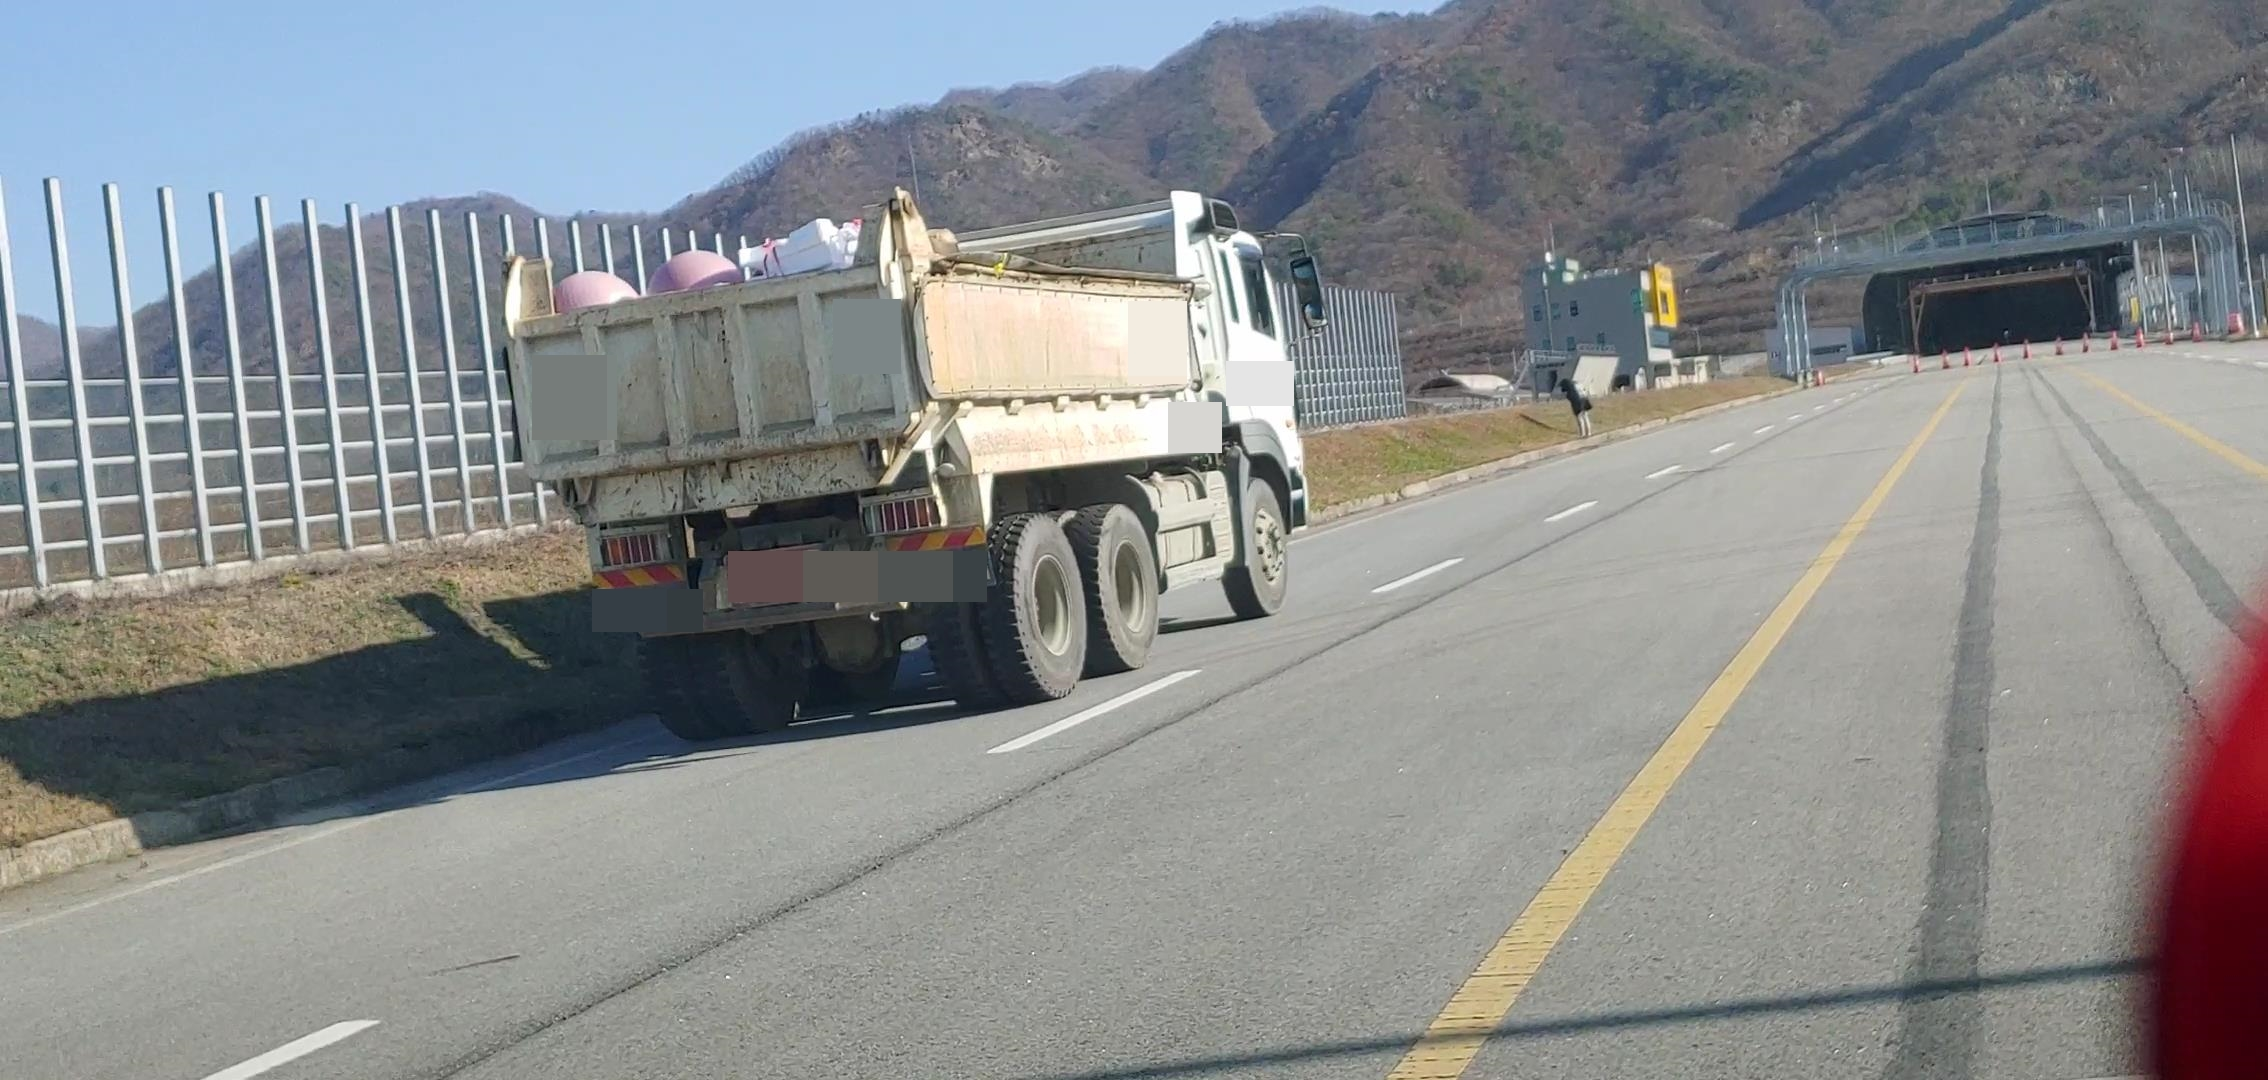불법차량: (499, 187, 1332, 743)
